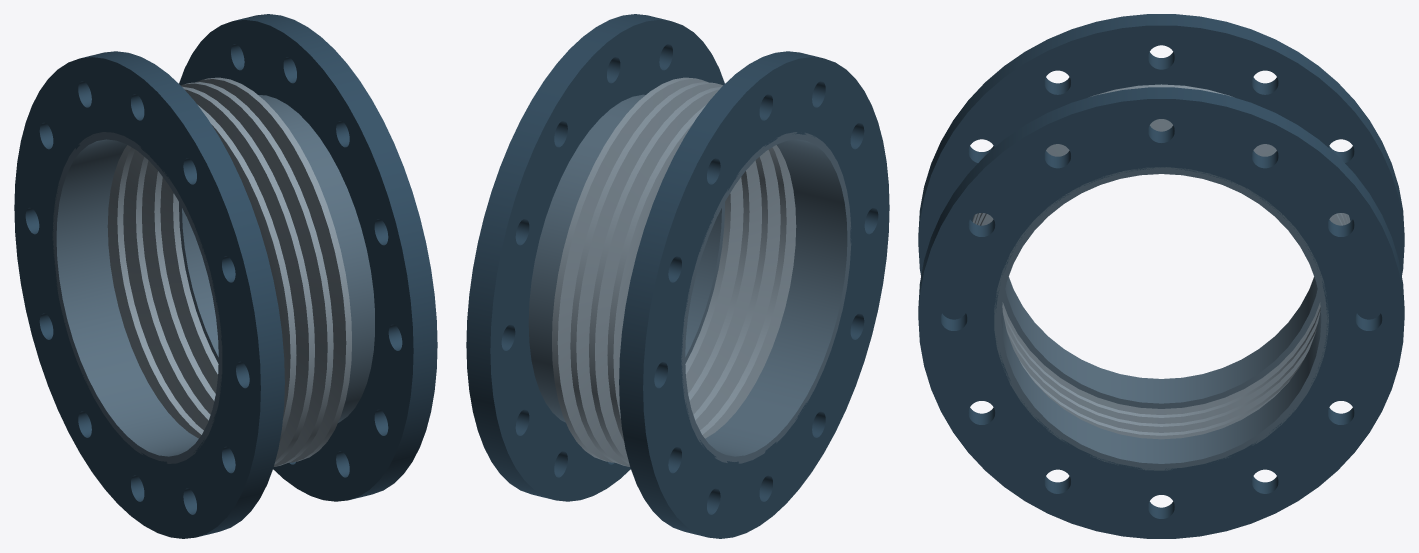
The model's file is flan-dn300-L195-D325-f.glb.
The picture shows the model from 3 angles, left to right: view 1: azimuth 30°, elevation 25°; view 2: azimuth 150°, elevation 25°; view 3: azimuth 270°, elevation 25°; orthographic projection.
Parts seen in each view (by area): view 1: homut_flanec_1, prokladka_silfon_1, homut_flanec_2, patrubok_1, patrubok_2; view 2: homut_flanec_1, prokladka_silfon_1, homut_flanec_2, patrubok_1, patrubok_2; view 3: homut_flanec_2, homut_flanec_1, patrubok_2, prokladka_silfon_1, patrubok_1.
Boxes of the visible parts, x1=… form: homut_flanec_1: x1=14, y1=51, x2=284, y2=538; prokladka_silfon_1: x1=107, y1=77, x2=351, y2=466; homut_flanec_2: x1=179, y1=14, x2=437, y2=501; patrubok_1: x1=52, y1=132, x2=222, y2=463; patrubok_2: x1=179, y1=95, x2=374, y2=422; homut_flanec_1: x1=619, y1=51, x2=889, y2=538; prokladka_silfon_1: x1=552, y1=77, x2=796, y2=466; homut_flanec_2: x1=466, y1=14, x2=724, y2=501; patrubok_1: x1=681, y1=132, x2=851, y2=463; patrubok_2: x1=528, y1=94, x2=724, y2=422; homut_flanec_2: x1=918, y1=87, x2=1404, y2=538; homut_flanec_1: x1=918, y1=14, x2=1404, y2=319; patrubok_2: x1=994, y1=167, x2=1328, y2=470; prokladka_silfon_1: x1=972, y1=84, x2=1350, y2=439; patrubok_1: x1=1002, y1=277, x2=1320, y2=408.
Size of the model in its own units: 195 by 471 by 471.
